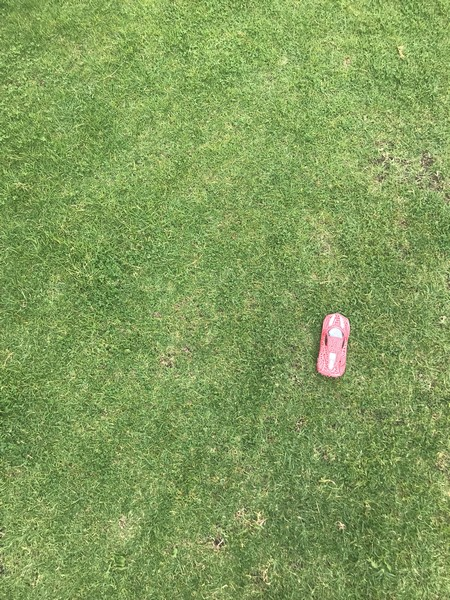RC: (314, 312, 352, 379)
